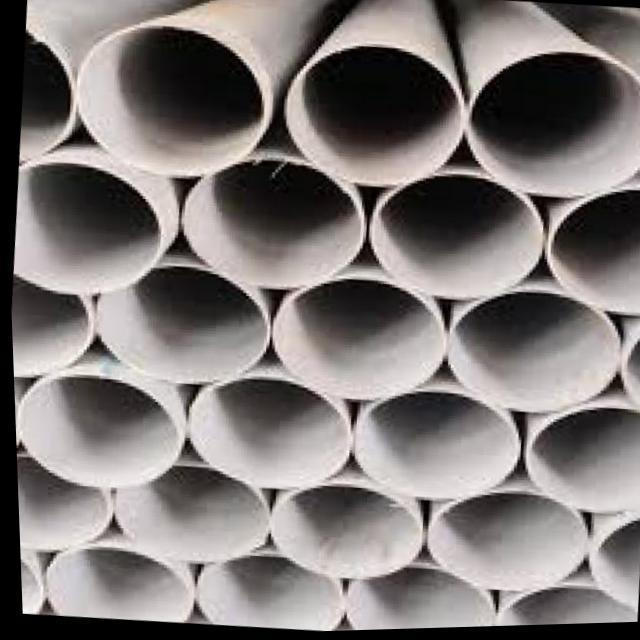pipe: (72, 24, 263, 177), (283, 45, 465, 189), (467, 54, 640, 197), (179, 162, 364, 290), (445, 292, 617, 420), (91, 264, 266, 387), (373, 175, 540, 301), (268, 281, 439, 401), (13, 161, 158, 296), (187, 376, 346, 490), (354, 391, 517, 502), (18, 375, 174, 489), (423, 495, 580, 593), (107, 468, 267, 564), (266, 484, 420, 579), (522, 410, 640, 516), (190, 555, 340, 633), (548, 192, 640, 319), (38, 546, 186, 624), (341, 568, 489, 633), (13, 455, 101, 552), (9, 276, 88, 376), (492, 588, 630, 629)
